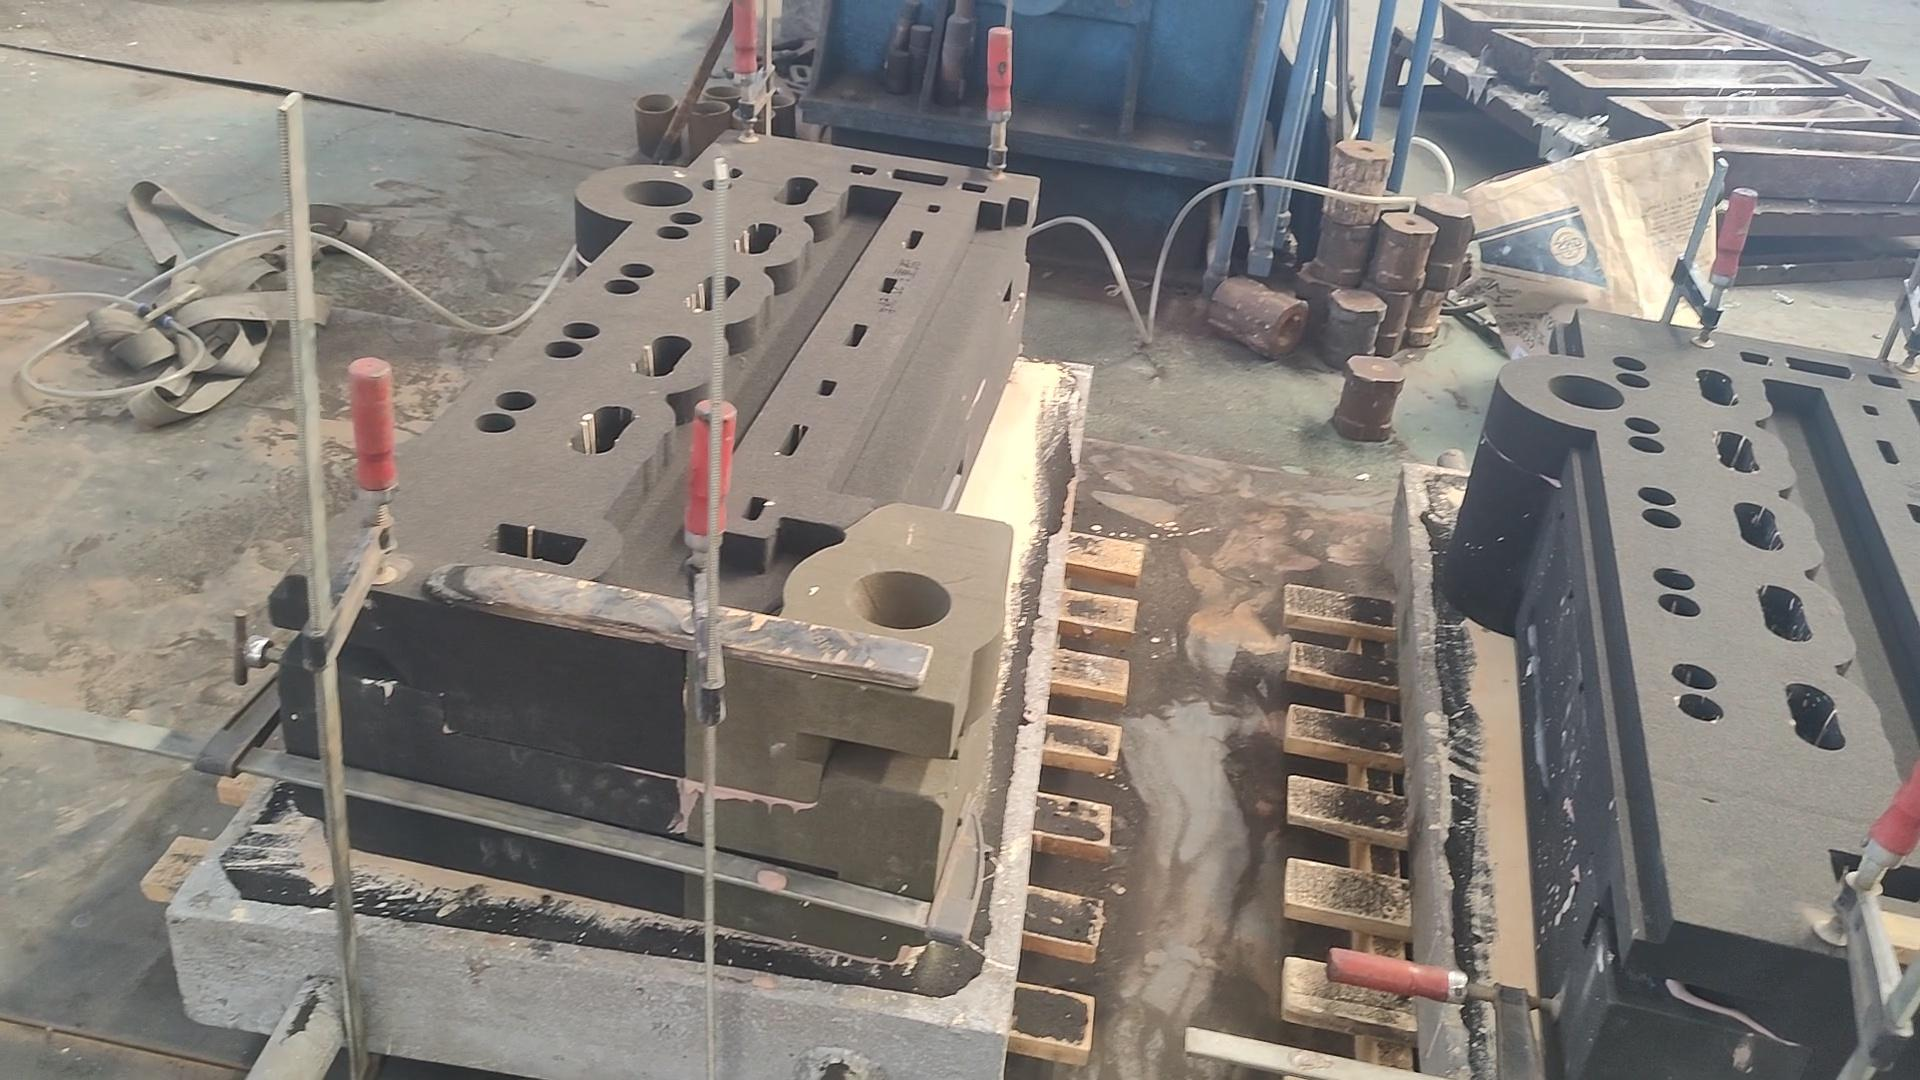pouring hole: (847, 570, 952, 630), (1548, 375, 1625, 410), (622, 179, 694, 207), (636, 94, 676, 112), (732, 105, 775, 121), (687, 100, 731, 115), (702, 84, 744, 99), (753, 94, 796, 107)
